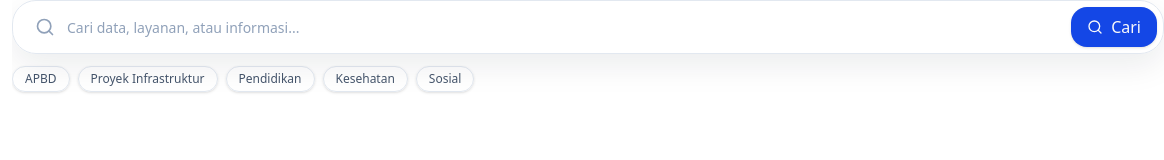
Scenario: PublicHeroSearch › accepts text and shows a clear button
In the field labelled "Cari data, layanan, atau informasi...": (557, 27) x1=67 y1=7 x2=1047 y2=47, type "APBD"
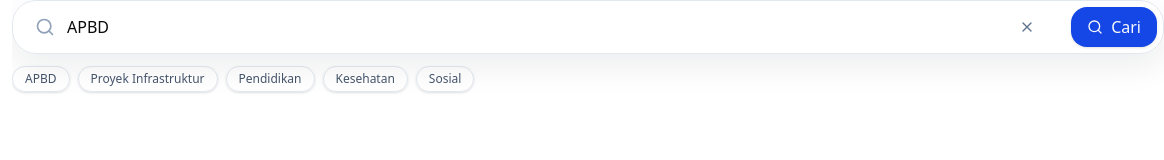
expect the button named "hapus pencarian" is shown: met, box x1=1007 y1=7 x2=1047 y2=47
